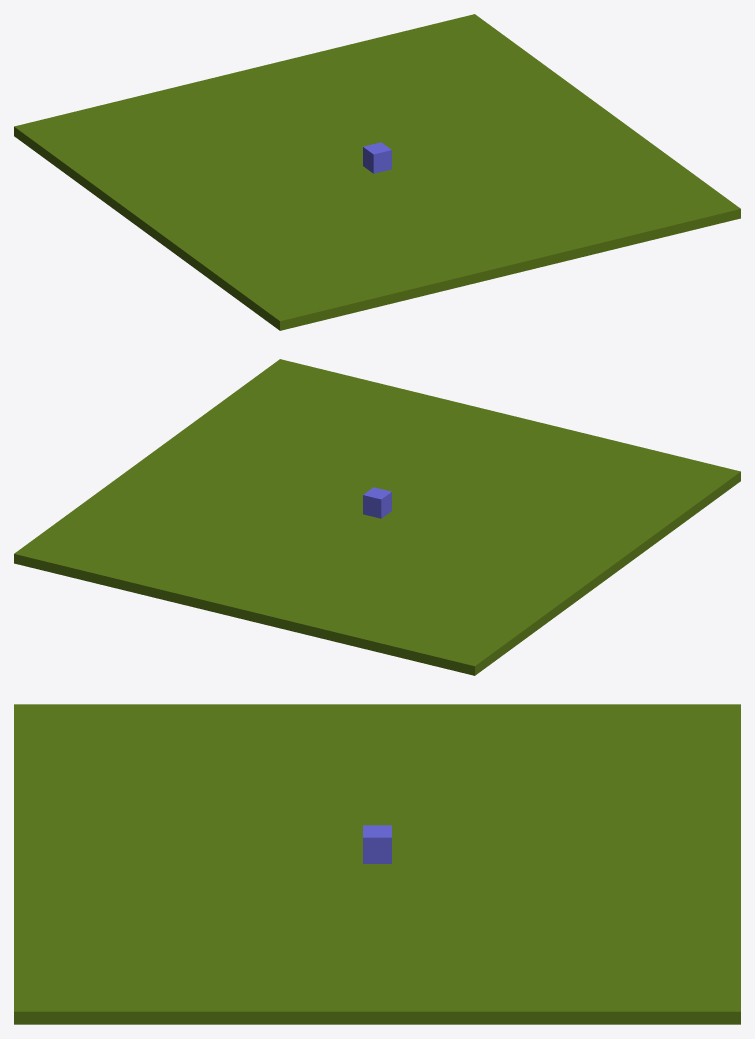
The picture shows the model from 3 angles, top to bottom: view 1: azimuth 30°, elevation 25°; view 2: azimuth 150°, elevation 25°; view 3: azimuth 270°, elevation 25°; orthographic projection. The views are drawn at different scales.
Visible parts, largest first — view 1: Plane, Cube; view 2: Plane, Cube; view 3: Plane, Cube.
Part boxes in pixels (<box>): Plane: <box>14,14,740,330</box>; Cube: <box>363,142,391,173</box>; Plane: <box>14,359,740,675</box>; Cube: <box>363,487,391,518</box>; Plane: <box>14,704,740,1024</box>; Cube: <box>363,825,391,863</box>.
Size of the model in its own units: 50 by 3 by 50.
